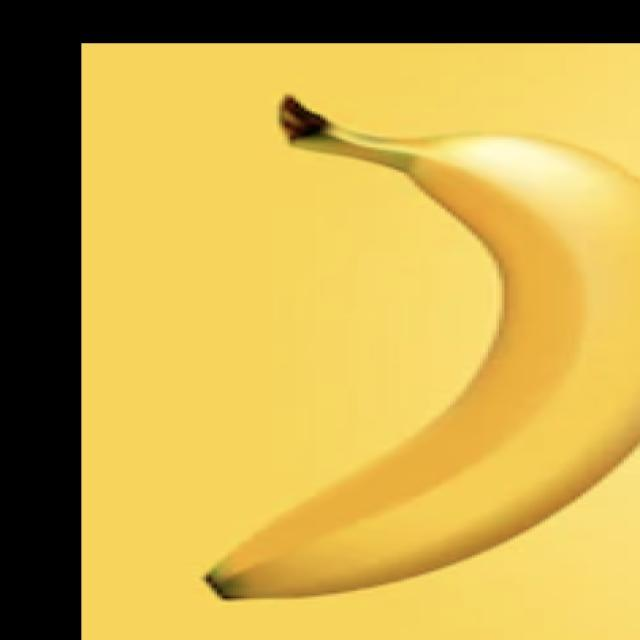Banana: (202, 92, 639, 601)
